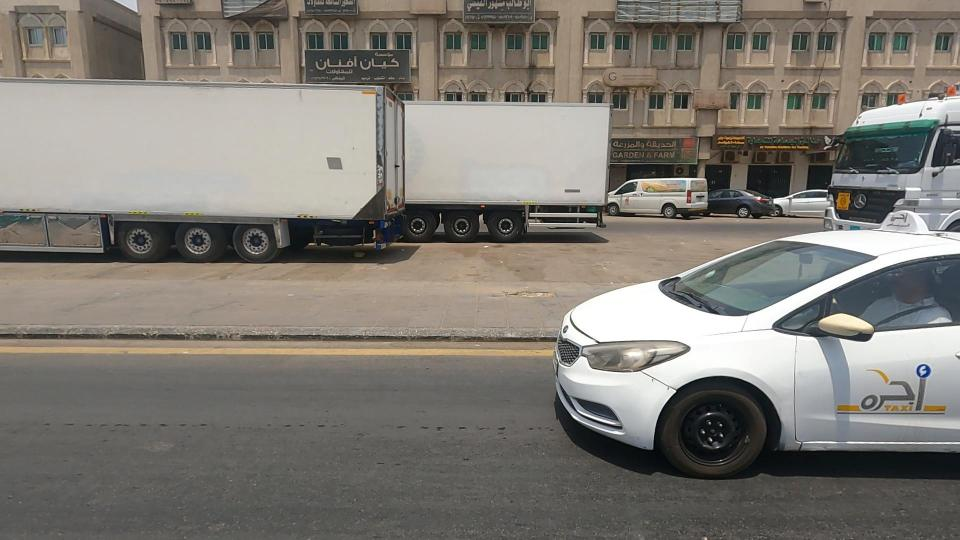SAND_ON_ROAD: (544, 0, 808, 37), (177, 0, 323, 29)
